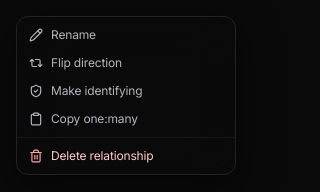
Test: EdgeContextMenu — D-R3 › Rename action switches to inline input
The width and height of the screenshot is (320, 192).
Click the menu item with test id "edge-context-rename" at (126, 35), box [17,21,235,49]
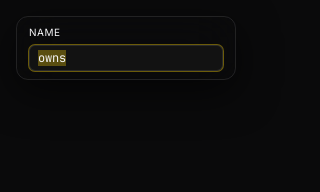
expect the field with test id "edge-context-rename-input" is shown: met, box [29,45,223,71]
